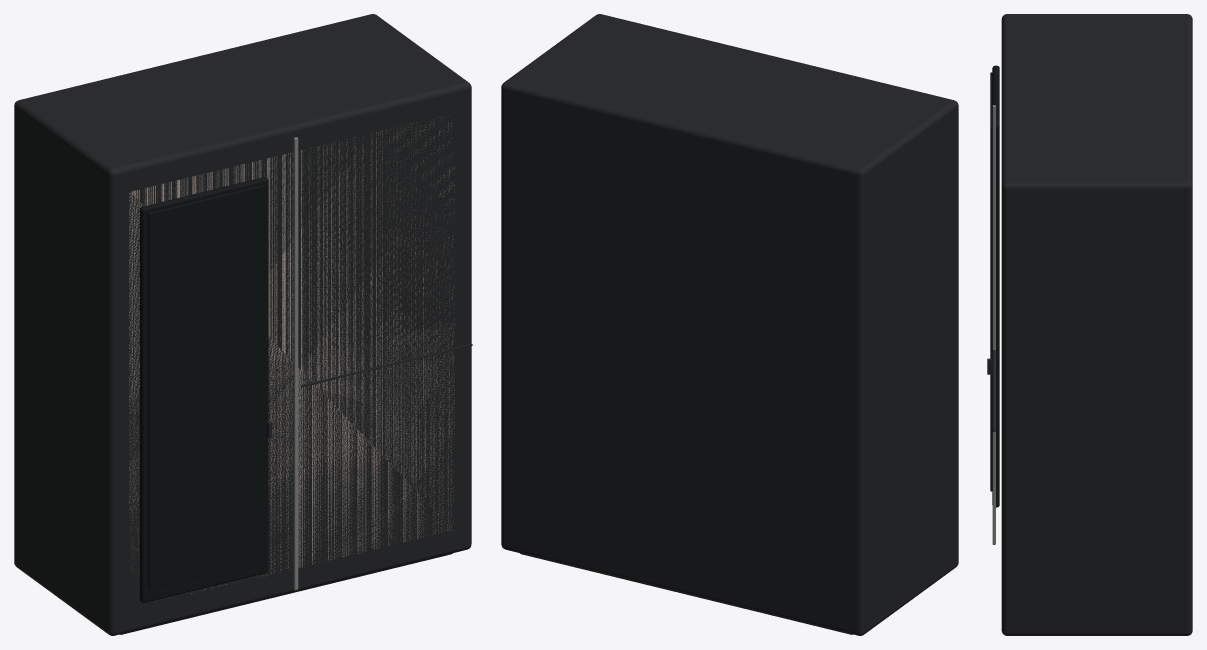
Rendered from nordica-evelyne-idro-evo-tortora.glb.
3 renders of one model, left to right at view 1: azimuth 30°, elevation 25°; view 2: azimuth 150°, elevation 25°; view 3: azimuth 270°, elevation 25°, orthographic. The views are drawn at different scales.
Parts seen in each view (by area): view 1: Corpo posteriore, Vetro sportello, Rivestimento, Porta vetro, Profilo verticale; view 2: Corpo posteriore; view 3: Corpo posteriore, Porta vetro, Profilo verticale, Vetro sportello, Giunto pannello.
Part boxes in pixels (x1=…): Corpo posteriore: x1=14, y1=14, x2=471, y2=635; Vetro sportello: x1=148, y1=185, x2=264, y2=588; Rivestimento: x1=129, y1=121, x2=454, y2=602; Porta vetro: x1=139, y1=177, x2=268, y2=602; Profilo verticale: x1=293, y1=137, x2=298, y2=590; Corpo posteriore: x1=501, y1=14, x2=958, y2=635; Corpo posteriore: x1=1001, y1=14, x2=1192, y2=635; Porta vetro: x1=992, y1=65, x2=999, y2=507; Profilo verticale: x1=992, y1=105, x2=995, y2=544; Vetro sportello: x1=990, y1=72, x2=992, y2=491; Giunto pannello: x1=992, y1=350, x2=995, y2=431.
Bounding box in the file's own units: 0.878 × 1.09 × 0.443.
